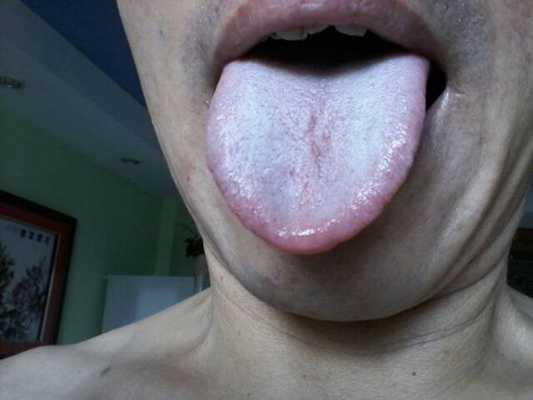baitaishe: (206, 52, 427, 254)
